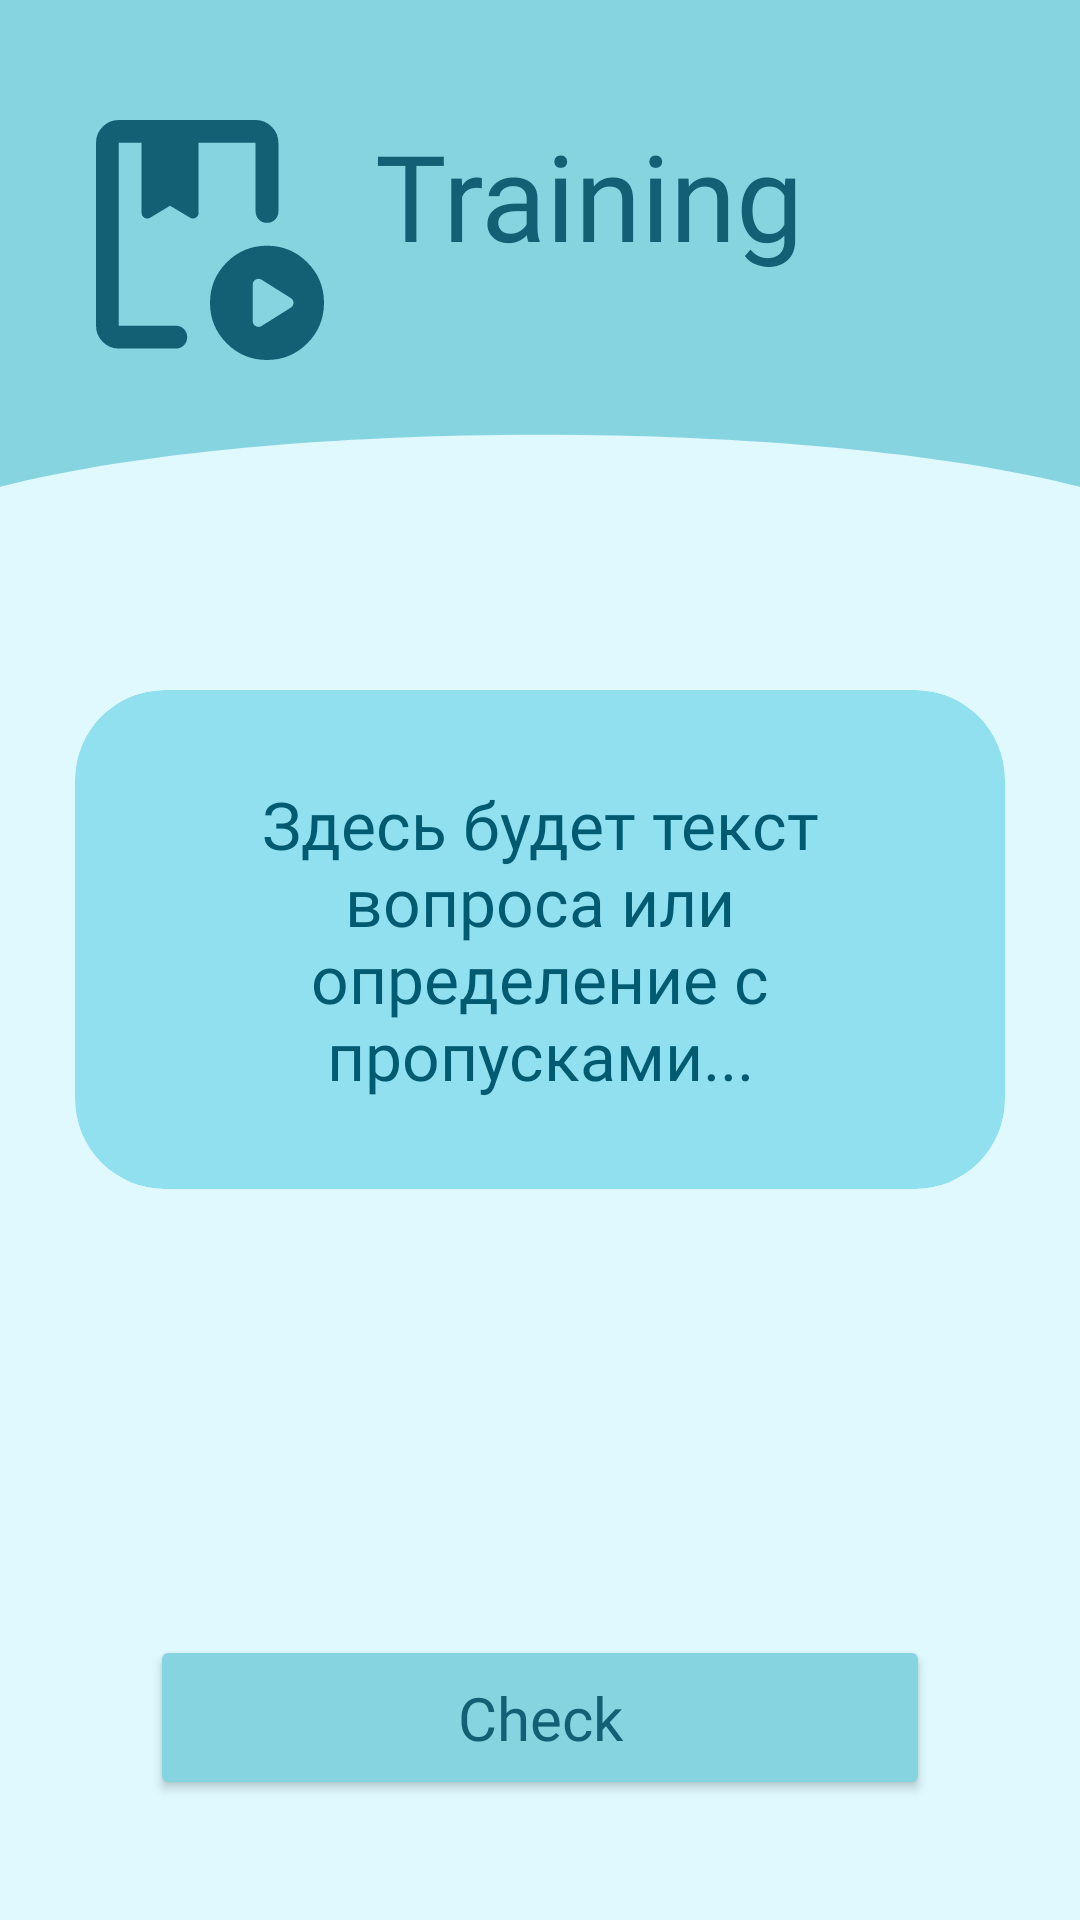

Icons on this 1080×1920 Android screen, each with its box as (x1, y1, x2, y2):
playbook: (96, 120, 324, 360)
